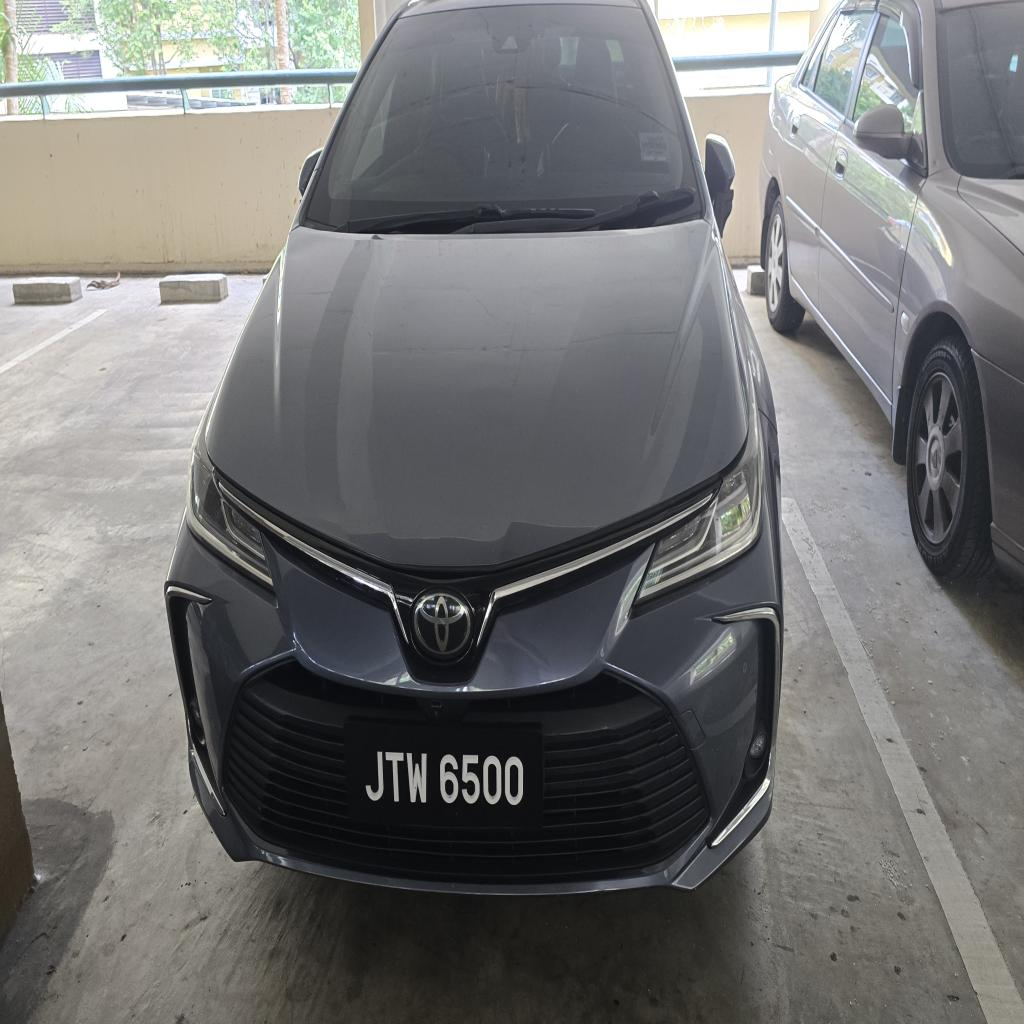car: (166, 0, 782, 892)
car plate: (345, 722, 542, 828)
